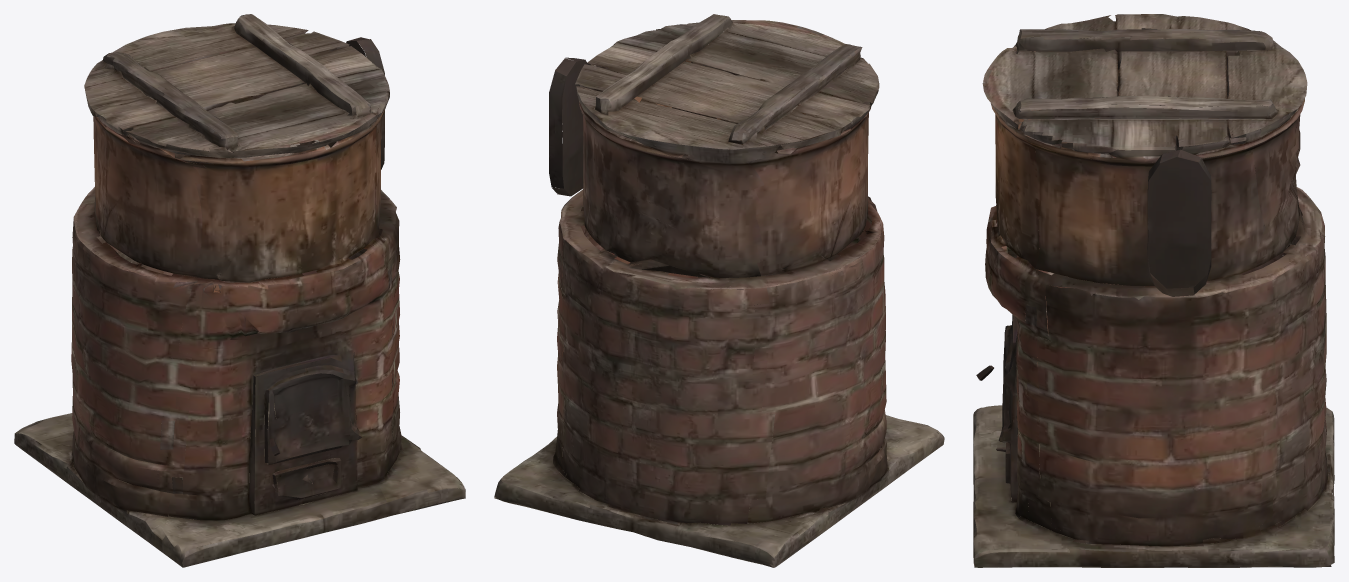
The model's file is copper.glb.
The picture shows the model from 3 angles, left to right: view 1: azimuth 30°, elevation 25°; view 2: azimuth 150°, elevation 25°; view 3: azimuth 270°, elevation 25°; orthographic projection. The views are drawn at different scales.
Visible parts, largest first — view 1: Mesh_0; view 2: Mesh_0; view 3: Mesh_0.
Boxes of the visible parts, x1,y1,x2,y2 form: Mesh_0: (14, 14, 465, 567); Mesh_0: (494, 14, 944, 567); Mesh_0: (973, 14, 1334, 567).
Bounding box in the file's own units: 0.8807 × 1.16 × 0.8935.
Materials: 1 (1 with a texture image).
